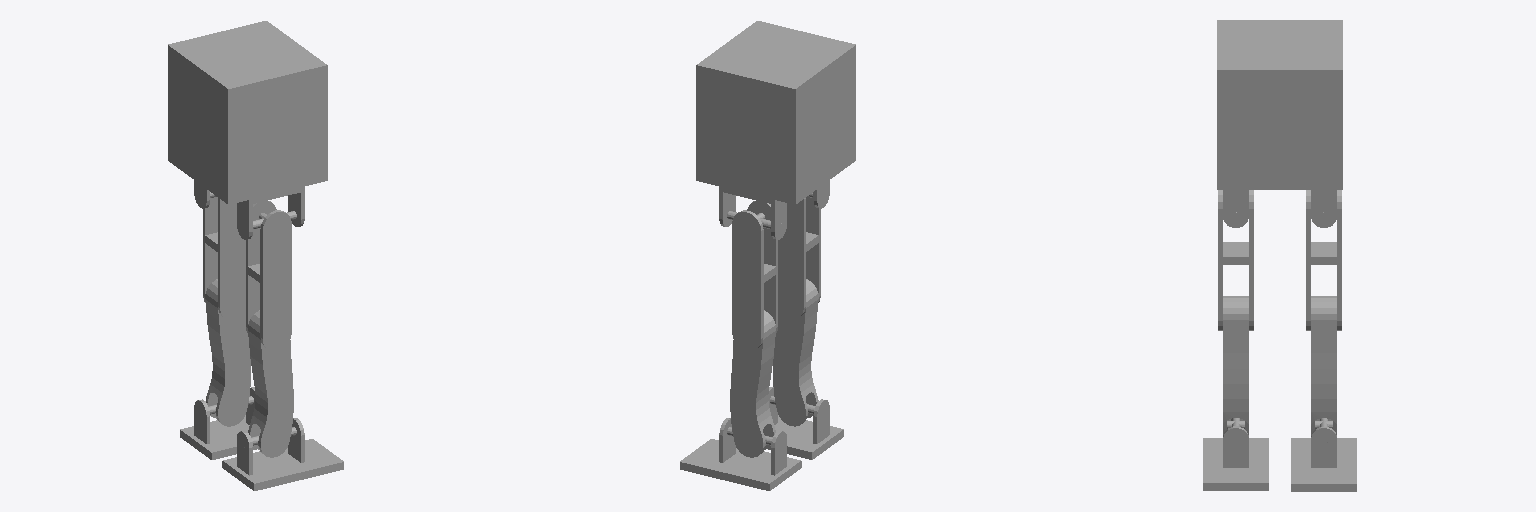
robot.urdf — LeggedRobot:
<?xml version="1.0" ?>
<!-- =================================================================================== -->
<!-- |    This document was autogenerated by xacro from LeggedRobot                    | -->
<!-- |    EDITING THIS FILE BY HAND IS NOT RECOMMENDED                                 | -->
<!-- =================================================================================== -->
<robot xmlns:xacro="http://www.ros.org/wiki/xacro" name="LeggedRobot">
  <material name="silver">
    <color rgba="0.700 0.700 0.700 1.000"/>
  </material>
  <transmission name="left_hip_pitch_tran">
    <type>transmission_interface/SimpleTransmission</type>
    <joint name="left_hip_pitch">
      <hardwareInterface>hardware_interface/EffortJointInterface</hardwareInterface>
    </joint>
    <actuator name="left_hip_pitch_actr">
      <hardwareInterface>hardware_interface/EffortJointInterface</hardwareInterface>
      <mechanicalReduction>1</mechanicalReduction>
    </actuator>
  </transmission>
  <transmission name="left_knee_tran">
    <type>transmission_interface/SimpleTransmission</type>
    <joint name="left_knee">
      <hardwareInterface>hardware_interface/EffortJointInterface</hardwareInterface>
    </joint>
    <actuator name="left_knee_actr">
      <hardwareInterface>hardware_interface/EffortJointInterface</hardwareInterface>
      <mechanicalReduction>1</mechanicalReduction>
    </actuator>
  </transmission>
  <transmission name="right_knee_tran">
    <type>transmission_interface/SimpleTransmission</type>
    <joint name="right_knee">
      <hardwareInterface>hardware_interface/EffortJointInterface</hardwareInterface>
    </joint>
    <actuator name="right_knee_actr">
      <hardwareInterface>hardware_interface/EffortJointInterface</hardwareInterface>
      <mechanicalReduction>1</mechanicalReduction>
    </actuator>
  </transmission>
  <transmission name="right_ankle_pitch_tran">
    <type>transmission_interface/SimpleTransmission</type>
    <joint name="right_ankle_pitch">
      <hardwareInterface>hardware_interface/EffortJointInterface</hardwareInterface>
    </joint>
    <actuator name="right_ankle_pitch_actr">
      <hardwareInterface>hardware_interface/EffortJointInterface</hardwareInterface>
      <mechanicalReduction>1</mechanicalReduction>
    </actuator>
  </transmission>
  <transmission name="left_ankle_pitch_tran">
    <type>transmission_interface/SimpleTransmission</type>
    <joint name="left_ankle_pitch">
      <hardwareInterface>hardware_interface/EffortJointInterface</hardwareInterface>
    </joint>
    <actuator name="left_ankle_pitch_actr">
      <hardwareInterface>hardware_interface/EffortJointInterface</hardwareInterface>
      <mechanicalReduction>1</mechanicalReduction>
    </actuator>
  </transmission>
  <transmission name="left_ankle_roll_tran">
    <type>transmission_interface/SimpleTransmission</type>
    <joint name="left_ankle_roll">
      <hardwareInterface>hardware_interface/EffortJointInterface</hardwareInterface>
    </joint>
    <actuator name="left_ankle_roll_actr">
      <hardwareInterface>hardware_interface/EffortJointInterface</hardwareInterface>
      <mechanicalReduction>1</mechanicalReduction>
    </actuator>
  </transmission>
  <transmission name="right_ankle_roll_tran">
    <type>transmission_interface/SimpleTransmission</type>
    <joint name="right_ankle_roll">
      <hardwareInterface>hardware_interface/EffortJointInterface</hardwareInterface>
    </joint>
    <actuator name="right_ankle_roll_actr">
      <hardwareInterface>hardware_interface/EffortJointInterface</hardwareInterface>
      <mechanicalReduction>1</mechanicalReduction>
    </actuator>
  </transmission>
  <transmission name="right_hip_roll_tran">
    <type>transmission_interface/SimpleTransmission</type>
    <joint name="right_hip_roll">
      <hardwareInterface>hardware_interface/EffortJointInterface</hardwareInterface>
    </joint>
    <actuator name="right_hip_roll_actr">
      <hardwareInterface>hardware_interface/EffortJointInterface</hardwareInterface>
      <mechanicalReduction>1</mechanicalReduction>
    </actuator>
  </transmission>
  <transmission name="right_hip_pitch_tran">
    <type>transmission_interface/SimpleTransmission</type>
    <joint name="right_hip_pitch">
      <hardwareInterface>hardware_interface/EffortJointInterface</hardwareInterface>
    </joint>
    <actuator name="right_hip_pitch_actr">
      <hardwareInterface>hardware_interface/EffortJointInterface</hardwareInterface>
      <mechanicalReduction>1</mechanicalReduction>
    </actuator>
  </transmission>
  <transmission name="left_hip_yaw_tran">
    <type>transmission_interface/SimpleTransmission</type>
    <joint name="left_hip_yaw">
      <hardwareInterface>hardware_interface/EffortJointInterface</hardwareInterface>
    </joint>
    <actuator name="left_hip_yaw_actr">
      <hardwareInterface>hardware_interface/EffortJointInterface</hardwareInterface>
      <mechanicalReduction>1</mechanicalReduction>
    </actuator>
  </transmission>
  <transmission name="right_hip_yaw_tran">
    <type>transmission_interface/SimpleTransmission</type>
    <joint name="right_hip_yaw">
      <hardwareInterface>hardware_interface/EffortJointInterface</hardwareInterface>
    </joint>
    <actuator name="right_hip_yaw_actr">
      <hardwareInterface>hardware_interface/EffortJointInterface</hardwareInterface>
      <mechanicalReduction>1</mechanicalReduction>
    </actuator>
  </transmission>
  <transmission name="left_hip_roll_tran">
    <type>transmission_interface/SimpleTransmission</type>
    <joint name="left_hip_roll">
      <hardwareInterface>hardware_interface/EffortJointInterface</hardwareInterface>
    </joint>
    <actuator name="left_hip_roll_actr">
      <hardwareInterface>hardware_interface/EffortJointInterface</hardwareInterface>
      <mechanicalReduction>1</mechanicalReduction>
    </actuator>
  </transmission>
  <gazebo>
    <plugin name="control" filename="libgazebo_ros_control.so"/>
  </gazebo>
  <gazebo reference="base_link">
    <material>Gazebo/Silver</material>
    <mu1>0.2</mu1>
    <mu2>0.2</mu2>
    <selfCollide>true</selfCollide>
    <gravity>true</gravity>
  </gazebo>
  <gazebo reference="Upper_leg_v2__1__1">
    <material>Gazebo/Silver</material>
    <mu1>0.2</mu1>
    <mu2>0.2</mu2>
    <selfCollide>true</selfCollide>
  </gazebo>
  <gazebo reference="Lower_leg_v2__1__1">
    <material>Gazebo/Silver</material>
    <mu1>0.2</mu1>
    <mu2>0.2</mu2>
    <selfCollide>true</selfCollide>
  </gazebo>
  <gazebo reference="Lower_leg_v2_1">
    <material>Gazebo/Silver</material>
    <mu1>0.2</mu1>
    <mu2>0.2</mu2>
    <selfCollide>true</selfCollide>
  </gazebo>
  <gazebo reference="Ankle_v1__1__1">
    <material>Gazebo/Silver</material>
    <mu1>0.2</mu1>
    <mu2>0.2</mu2>
    <selfCollide>true</selfCollide>
  </gazebo>
  <gazebo reference="Ankle_v1__2__1">
    <material>Gazebo/Silver</material>
    <mu1>0.2</mu1>
    <mu2>0.2</mu2>
    <selfCollide>true</selfCollide>
  </gazebo>
  <gazebo reference="Foot_v1__1__1">
    <material>Gazebo/Silver</material>
    <mu1>0.2</mu1>
    <mu2>0.2</mu2>
    <selfCollide>true</selfCollide>
  </gazebo>
  <gazebo reference="Foot_v1_1">
    <material>Gazebo/Silver</material>
    <mu1>0.2</mu1>
    <mu2>0.2</mu2>
    <selfCollide>true</selfCollide>
  </gazebo>
  <gazebo reference="Hip_joint_v1__1__1">
    <material>Gazebo/Silver</material>
    <mu1>0.2</mu1>
    <mu2>0.2</mu2>
    <selfCollide>true</selfCollide>
  </gazebo>
  <gazebo reference="Upper_leg_v2_1">
    <material>Gazebo/Silver</material>
    <mu1>0.2</mu1>
    <mu2>0.2</mu2>
    <selfCollide>true</selfCollide>
  </gazebo>
  <gazebo reference="Hip_v1_1">
    <material>Gazebo/Silver</material>
    <mu1>0.2</mu1>
    <mu2>0.2</mu2>
    <selfCollide>true</selfCollide>
  </gazebo>
  <gazebo reference="Hip_v1__1__1">
    <material>Gazebo/Silver</material>
    <mu1>0.2</mu1>
    <mu2>0.2</mu2>
    <selfCollide>true</selfCollide>
  </gazebo>
  <gazebo reference="Hip_joint_v1_1">
    <material>Gazebo/Silver</material>
    <mu1>0.2</mu1>
    <mu2>0.2</mu2>
    <selfCollide>true</selfCollide>
  </gazebo>
  <link name="base_link">
    <inertial>
      <origin xyz="-6.346783925452715e-17 -5.077427140362172e-17 0.12027129926675365" rpy="0 0 0"/>
      <mass value="5.237474955117158"/>
      <inertia ixx="0.018691" iyy="0.017694" izz="0.016812" ixy="-0.0" iyz="-0.0" ixz="-0.0"/>
    </inertial>
    <visual>
      <origin xyz="0 0 0" rpy="0 0 0"/>
      <geometry>
        <mesh filename="../meshes/base_link.stl"/>
      </geometry>
      <material name="silver"/>
    </visual>
    <collision>
      <origin xyz="0 0 0" rpy="0 0 0"/>
      <geometry>
        <mesh filename="../meshes/base_link.stl"/>
      </geometry>
    </collision>
  </link>
  <link name="Upper_leg_v2__1__1">
    <inertial>
      <origin xyz="2.6254089049651695e-16 0.02000000000000001 -0.07192876729347267" rpy="0 0 0"/>
      <mass value="0.1431308285816426"/>
      <inertia ixx="0.000346" iyy="0.000326" izz="5.6e-05" ixy="0.0" iyz="0.0" ixz="0.0"/>
    </inertial>
    <visual>
      <origin xyz="-0.0 -0.03 0.000399" rpy="0 0 0"/>
      <geometry>
        <mesh filename="../meshes/Upper_leg_v2__1__1.stl"/>
      </geometry>
      <material name="silver"/>
    </visual>
    <collision>
      <origin xyz="-0.0 -0.03 0.000399" rpy="0 0 0"/>
      <geometry>
        <mesh filename="../meshes/Upper_leg_v2__1__1.stl"/>
      </geometry>
    </collision>
  </link>
  <link name="Lower_leg_v2__1__1">
    <inertial>
      <origin xyz="0.0036759081332830533 0.015000001797078708 -0.058757577943002876" rpy="0 0 0"/>
      <mass value="0.301868005898131"/>
      <inertia ixx="0.000629" iyy="0.000642" izz="6.2e-05" ixy="0.0" iyz="0.0" ixz="2.2e-05"/>
    </inertial>
    <visual>
      <origin xyz="-0.0 -0.035 0.140399" rpy="0 0 0"/>
      <geometry>
        <mesh filename="../meshes/Lower_leg_v2__1__1.stl"/>
      </geometry>
      <material name="silver"/>
    </visual>
    <collision>
      <origin xyz="-0.0 -0.035 0.140399" rpy="0 0 0"/>
      <geometry>
        <mesh filename="../meshes/Lower_leg_v2__1__1.stl"/>
      </geometry>
    </collision>
  </link>
  <link name="Lower_leg_v2_1">
    <inertial>
      <origin xyz="0.003675908133282827 0.015000001797078687 -0.05875791626802551" rpy="0 0 0"/>
      <mass value="0.301868005898131"/>
      <inertia ixx="0.000629" iyy="0.000642" izz="6.2e-05" ixy="0.0" iyz="0.0" ixz="2.2e-05"/>
    </inertial>
    <visual>
      <origin xyz="-0.0 0.065 0.140258" rpy="0 0 0"/>
      <geometry>
        <mesh filename="../meshes/Lower_leg_v2_1.stl"/>
      </geometry>
      <material name="silver"/>
    </visual>
    <collision>
      <origin xyz="-0.0 0.065 0.140258" rpy="0 0 0"/>
      <geometry>
        <mesh filename="../meshes/Lower_leg_v2_1.stl"/>
      </geometry>
    </collision>
  </link>
  <link name="Ankle_v1__1__1">
    <inertial>
      <origin xyz="0.001958378003147534 0.014999777263784618 5.238469396035006e-05" rpy="0 0 0"/>
      <mass value="0.013454867594222361"/>
      <inertia ixx="0.0" iyy="5e-06" izz="5e-06" ixy="-0.0" iyz="-0.0" ixz="-0.0"/>
    </inertial>
    <visual>
      <origin xyz="-0.0 0.065 0.280258" rpy="0 0 0"/>
      <geometry>
        <mesh filename="../meshes/Ankle_v1__1__1.stl"/>
      </geometry>
      <material name="silver"/>
    </visual>
    <collision>
      <origin xyz="-0.0 0.065 0.280258" rpy="0 0 0"/>
      <geometry>
        <mesh filename="../meshes/Ankle_v1__1__1.stl"/>
      </geometry>
    </collision>
  </link>
  <link name="Ankle_v1__2__1">
    <inertial>
      <origin xyz="0.001958378003147778 0.01499977726378466 5.27230189829031e-05" rpy="0 0 0"/>
      <mass value="0.013454867594222361"/>
      <inertia ixx="0.0" iyy="5e-06" izz="5e-06" ixy="-0.0" iyz="-0.0" ixz="-0.0"/>
    </inertial>
    <visual>
      <origin xyz="-0.0 -0.035 0.280399" rpy="0 0 0"/>
      <geometry>
        <mesh filename="../meshes/Ankle_v1__2__1.stl"/>
      </geometry>
      <material name="silver"/>
    </visual>
    <collision>
      <origin xyz="-0.0 -0.035 0.280399" rpy="0 0 0"/>
      <geometry>
        <mesh filename="../meshes/Ankle_v1__2__1.stl"/>
      </geometry>
    </collision>
  </link>
  <link name="Foot_v1__1__1">
    <inertial>
      <origin xyz="0.05260285295726415 1.0137375216351385e-07 -0.03676333019729189" rpy="0 0 0"/>
      <mass value="0.18191482193416827"/>
      <inertia ixx="9.7e-05" iyy="0.000254" izz="0.000307" ixy="0.0" iyz="-0.0" ixz="1e-05"/>
    </inertial>
    <visual>
      <origin xyz="0.035 -0.05 0.280328" rpy="0 0 0"/>
      <geometry>
        <mesh filename="../meshes/Foot_v1__1__1.stl"/>
      </geometry>
      <material name="silver"/>
    </visual>
    <collision>
      <origin xyz="0.035 -0.05 0.280328" rpy="0 0 0"/>
      <geometry>
        <mesh filename="../meshes/Foot_v1__1__1.stl"/>
      </geometry>
    </collision>
  </link>
  <link name="Foot_v1_1">
    <inertial>
      <origin xyz="0.052602852957263996 1.0137375208024713e-07 -0.03676266852231441" rpy="0 0 0"/>
      <mass value="0.18191482193416827"/>
      <inertia ixx="9.7e-05" iyy="0.000254" izz="0.000307" ixy="0.0" iyz="-0.0" ixz="1e-05"/>
    </inertial>
    <visual>
      <origin xyz="0.035 0.05 0.280188" rpy="0 0 0"/>
      <geometry>
        <mesh filename="../meshes/Foot_v1_1.stl"/>
      </geometry>
      <material name="silver"/>
    </visual>
    <collision>
      <origin xyz="0.035 0.05 0.280188" rpy="0 0 0"/>
      <geometry>
        <mesh filename="../meshes/Foot_v1_1.stl"/>
      </geometry>
    </collision>
  </link>
  <link name="Hip_joint_v1__1__1">
    <inertial>
      <origin xyz="-0.03822219731670742 2.0634426864396538e-07 2.243850123965943e-05" rpy="0 0 0"/>
      <mass value="0.015566398617684687"/>
      <inertia ixx="1e-06" iyy="5e-06" izz="6e-06" ixy="0.0" iyz="-0.0" ixz="0.0"/>
    </inertial>
    <visual>
      <origin xyz="-0.04 0.05 0.000328" rpy="0 0 0"/>
      <geometry>
        <mesh filename="../meshes/Hip_joint_v1__1__1.stl"/>
      </geometry>
      <material name="silver"/>
    </visual>
    <collision>
      <origin xyz="-0.04 0.05 0.000328" rpy="0 0 0"/>
      <geometry>
        <mesh filename="../meshes/Hip_joint_v1__1__1.stl"/>
      </geometry>
    </collision>
  </link>
  <link name="Upper_leg_v2_1">
    <inertial>
      <origin xyz="3.523342660544597e-17 0.019999999999999962 -0.07192910561849525" rpy="0 0 0"/>
      <mass value="0.1431308285816426"/>
      <inertia ixx="0.000346" iyy="0.000326" izz="5.6e-05" ixy="-0.0" iyz="0.0" ixz="0.0"/>
    </inertial>
    <visual>
      <origin xyz="-0.0 0.07 0.000258" rpy="0 0 0"/>
      <geometry>
        <mesh filename="../meshes/Upper_leg_v2_1.stl"/>
      </geometry>
      <material name="silver"/>
    </visual>
    <collision>
      <origin xyz="-0.0 0.07 0.000258" rpy="0 0 0"/>
      <geometry>
        <mesh filename="../meshes/Upper_leg_v2_1.stl"/>
      </geometry>
    </collision>
  </link>
  <link name="Hip_v1_1">
    <inertial>
      <origin xyz="0.002298444106988769 -8.467524528557591e-07 -0.013356564577291896" rpy="0 0 0"/>
      <mass value="0.07120981938348954"/>
      <inertia ixx="2.6e-05" iyy="7e-05" izz="5.4e-05" ixy="0.0" iyz="0.0" ixz="0.0"/>
    </inertial>
    <visual>
      <origin xyz="0.0 0.05 -0.045" rpy="0 0 0"/>
      <geometry>
        <mesh filename="../meshes/Hip_v1_1.stl"/>
      </geometry>
      <material name="silver"/>
    </visual>
    <collision>
      <origin xyz="0.0 0.05 -0.045" rpy="0 0 0"/>
      <geometry>
        <mesh filename="../meshes/Hip_v1_1.stl"/>
      </geometry>
    </collision>
  </link>
  <link name="Hip_v1__1__1">
    <inertial>
      <origin xyz="0.0022984441069888646 -8.467524527377979e-07 -0.013356564577291966" rpy="0 0 0"/>
      <mass value="0.07120981938348954"/>
      <inertia ixx="2.6e-05" iyy="7e-05" izz="5.4e-05" ixy="0.0" iyz="0.0" ixz="0.0"/>
    </inertial>
    <visual>
      <origin xyz="0.0 -0.05 -0.045" rpy="0 0 0"/>
      <geometry>
        <mesh filename="../meshes/Hip_v1__1__1.stl"/>
      </geometry>
      <material name="silver"/>
    </visual>
    <collision>
      <origin xyz="0.0 -0.05 -0.045" rpy="0 0 0"/>
      <geometry>
        <mesh filename="../meshes/Hip_v1__1__1.stl"/>
      </geometry>
    </collision>
  </link>
  <link name="Hip_joint_v1_1">
    <inertial>
      <origin xyz="-0.03822219731670722 -2.063442687480488e-07 -2.3112192325615494e-05" rpy="0 0 0"/>
      <mass value="0.015566398617684687"/>
      <inertia ixx="1e-06" iyy="5e-06" izz="6e-06" ixy="-0.0" iyz="-0.0" ixz="-0.0"/>
    </inertial>
    <visual>
      <origin xyz="-0.04 -0.05 0.000328" rpy="0 0 0"/>
      <geometry>
        <mesh filename="../meshes/Hip_joint_v1_1.stl"/>
      </geometry>
      <material name="silver"/>
    </visual>
    <collision>
      <origin xyz="-0.04 -0.05 0.000328" rpy="0 0 0"/>
      <geometry>
        <mesh filename="../meshes/Hip_joint_v1_1.stl"/>
      </geometry>
    </collision>
  </link>
  <joint name="left_hip_pitch" type="continuous">
    <origin xyz="-0.04 -0.02 -7.1e-05" rpy="0 0 0"/>
    <parent link="Hip_joint_v1_1"/>
    <child link="Upper_leg_v2__1__1"/>
    <axis xyz="-0.0 -1.0 -0.0"/>
  </joint>
  <joint name="left_knee" type="continuous">
    <origin xyz="0.0 0.005 -0.14" rpy="0 0 0"/>
    <parent link="Upper_leg_v2__1__1"/>
    <child link="Lower_leg_v2__1__1"/>
    <axis xyz="0.0 1.0 0.0"/>
  </joint>
  <joint name="right_knee" type="continuous">
    <origin xyz="0.0 0.005 -0.14" rpy="0 0 0"/>
    <parent link="Upper_leg_v2_1"/>
    <child link="Lower_leg_v2_1"/>
    <axis xyz="0.0 1.0 0.0"/>
  </joint>
  <joint name="right_ankle_pitch" type="continuous">
    <origin xyz="0.0 0.0 -0.14" rpy="0 0 0"/>
    <parent link="Lower_leg_v2_1"/>
    <child link="Ankle_v1__1__1"/>
    <axis xyz="-0.0 -1.0 -0.0"/>
  </joint>
  <joint name="left_ankle_pitch" type="continuous">
    <origin xyz="0.0 0.0 -0.14" rpy="0 0 0"/>
    <parent link="Lower_leg_v2__1__1"/>
    <child link="Ankle_v1__2__1"/>
    <axis xyz="-0.0 -1.0 -0.0"/>
  </joint>
  <joint name="left_ankle_roll" type="continuous">
    <origin xyz="-0.035 0.015 7.1e-05" rpy="0 0 0"/>
    <parent link="Ankle_v1__2__1"/>
    <child link="Foot_v1__1__1"/>
    <axis xyz="-1.0 -0.0 -0.0"/>
  </joint>
  <joint name="right_ankle_roll" type="continuous">
    <origin xyz="-0.035 0.015 7e-05" rpy="0 0 0"/>
    <parent link="Ankle_v1__1__1"/>
    <child link="Foot_v1_1"/>
    <axis xyz="-1.0 0.0 -0.0"/>
  </joint>
  <joint name="right_hip_roll" type="continuous">
    <origin xyz="0.04 0.0 -0.045328" rpy="0 0 0"/>
    <parent link="Hip_v1_1"/>
    <child link="Hip_joint_v1__1__1"/>
    <axis xyz="-1.0 0.0 -0.0"/>
  </joint>
  <joint name="right_hip_pitch" type="continuous">
    <origin xyz="-0.04 -0.02 7e-05" rpy="0 0 0"/>
    <parent link="Hip_joint_v1__1__1"/>
    <child link="Upper_leg_v2_1"/>
    <axis xyz="-0.0 -1.0 -0.0"/>
  </joint>
  <joint name="left_hip_yaw" type="continuous">
    <origin xyz="0.0 -0.05 0.045" rpy="0 0 0"/>
    <parent link="base_link"/>
    <child link="Hip_v1_1"/>
    <axis xyz="-0.0 0.0 1.0"/>
  </joint>
  <joint name="right_hip_yaw" type="continuous">
    <origin xyz="0.0 0.05 0.045" rpy="0 0 0"/>
    <parent link="base_link"/>
    <child link="Hip_v1__1__1"/>
    <axis xyz="-0.0 0.0 1.0"/>
  </joint>
  <joint name="left_hip_roll" type="continuous">
    <origin xyz="0.04 0.0 -0.045328" rpy="0 0 0"/>
    <parent link="Hip_v1__1__1"/>
    <child link="Hip_joint_v1_1"/>
    <axis xyz="-1.0 0.0 -0.0"/>
  </joint>
</robot>

--- Facts derived from the render (not from the file) ---
3 views of the same robot in one strip: view 1: azimuth 30°, elevation 25°; view 2: azimuth 150°, elevation 25°; view 3: azimuth 270°, elevation 25° (orthographic).
Model LeggedRobot with 13 links and 12 joints (12 continuous), rooted at base_link, posed every joint at zero.
Visible links, largest first — view 1: base_link, Upper_leg_v2_1, Lower_leg_v2_1, Lower_leg_v2__1__1, Upper_leg_v2__1__1, Foot_v1_1, Foot_v1__1__1, Hip_v1_1; view 2: base_link, Upper_leg_v2__1__1, Lower_leg_v2__1__1, Lower_leg_v2_1, Upper_leg_v2_1, Foot_v1__1__1, Foot_v1_1, Hip_v1__1__1; view 3: base_link, Foot_v1__1__1, Foot_v1_1, Lower_leg_v2__1__1, Lower_leg_v2_1, Upper_leg_v2__1__1, Upper_leg_v2_1, Hip_v1_1, Hip_v1__1__1.
Link boxes in pixels (x1,y1,x2,y2): base_link: (168,21,327,204); Upper_leg_v2_1: (246,201,291,350); Lower_leg_v2_1: (248,310,293,457); Lower_leg_v2__1__1: (205,279,250,426); Upper_leg_v2__1__1: (203,197,245,319); Foot_v1_1: (222,418,343,490); Foot_v1__1__1: (180,387,256,459); Hip_v1_1: (237,187,304,239); base_link: (696,21,855,204); Upper_leg_v2__1__1: (732,201,777,350); Lower_leg_v2__1__1: (730,310,775,457); Lower_leg_v2_1: (773,279,818,426); Upper_leg_v2_1: (778,197,820,319); Foot_v1__1__1: (680,418,801,490); Foot_v1_1: (768,387,843,459); Hip_v1__1__1: (719,187,786,239); base_link: (1217,20,1342,189); Foot_v1__1__1: (1291,419,1356,491); Foot_v1_1: (1203,419,1268,490); Lower_leg_v2__1__1: (1311,296,1336,435); Lower_leg_v2_1: (1223,296,1248,434); Upper_leg_v2__1__1: (1306,190,1341,330); Upper_leg_v2_1: (1218,190,1253,330); Hip_v1_1: (1223,190,1248,227); Hip_v1__1__1: (1311,190,1336,227).
Size in the robot's own frame: 0.148 by 0.1747 by 0.5207 metres.
Meshes: 13 distinct files referenced, 13 mesh visuals loaded (13 ASCII STL).